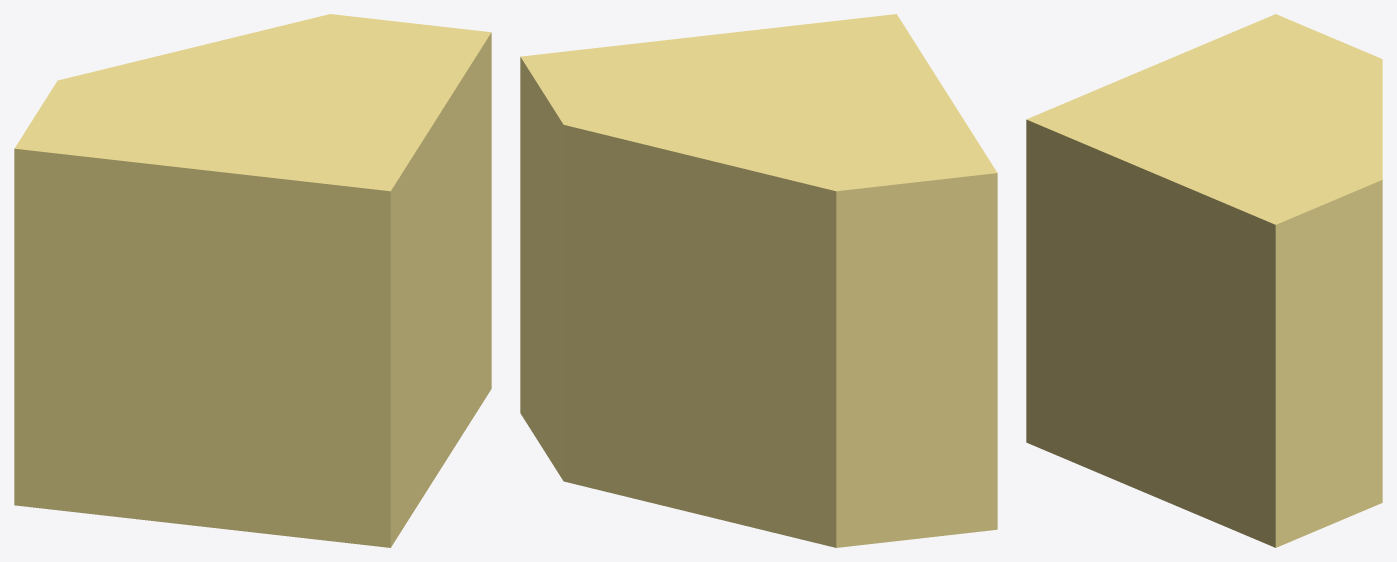
The model's file is Base_Straight.glb.
The picture shows the model from 3 angles, left to right: view 1: azimuth 30°, elevation 25°; view 2: azimuth 150°, elevation 25°; view 3: azimuth 270°, elevation 25°; orthographic projection. The views are drawn at different scales.
Parts seen in each view (by area): view 1: Base_Straight; view 2: Base_Straight; view 3: Base_Straight.
Part boxes in pixels (x1,y1,x2,y2): Base_Straight: (14, 14, 491, 547); Base_Straight: (520, 14, 997, 547); Base_Straight: (1026, 14, 1382, 547).
Size of the model in its own units: 0.7 by 0.5 by 0.5.
